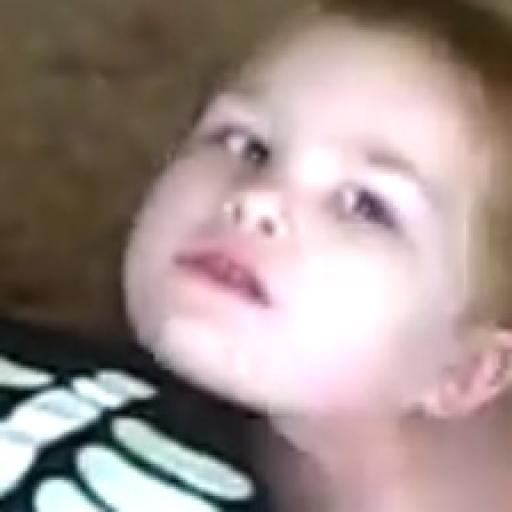Autism: (50, 20, 511, 512)
